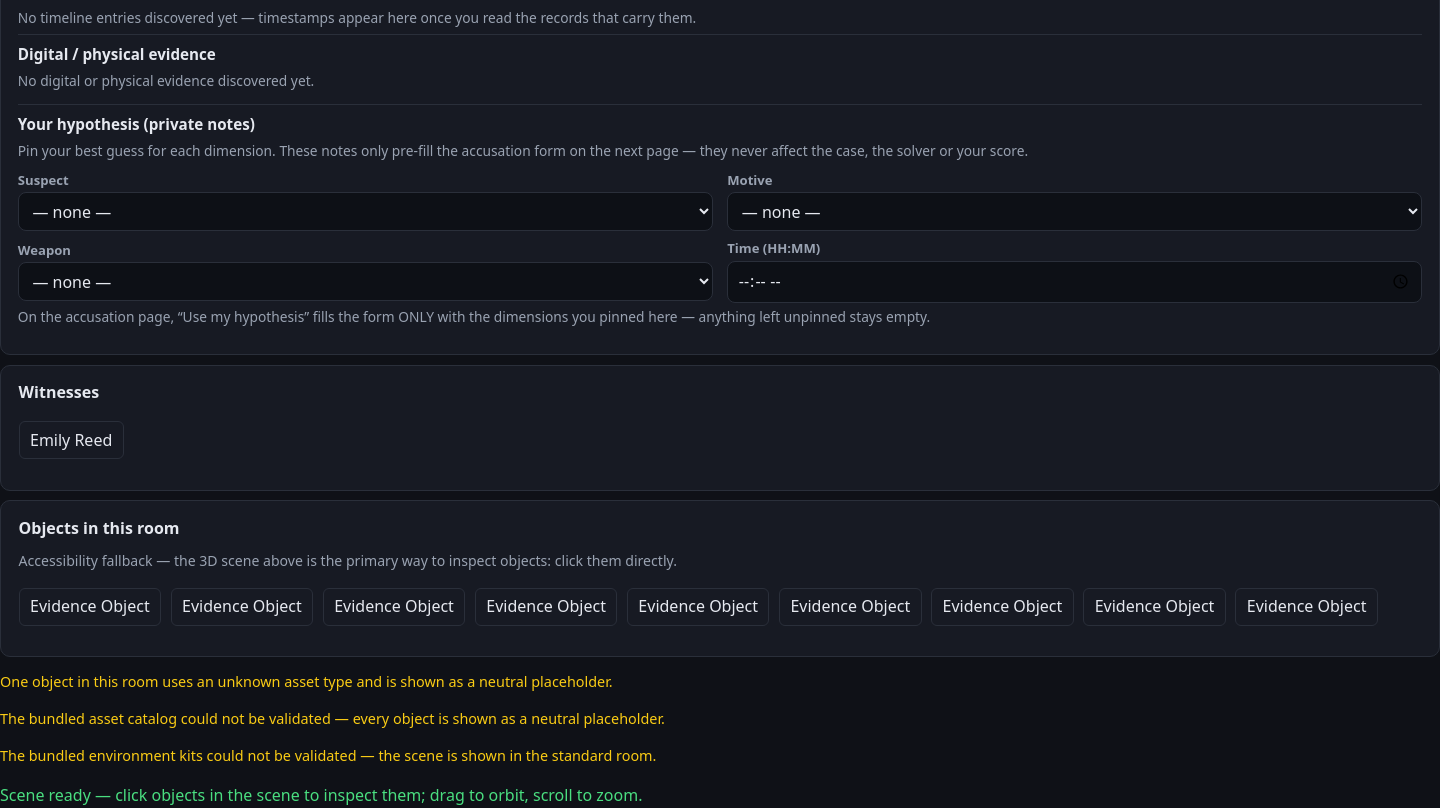
Phase 39 — fresh saved replay starts with ZERO answered witness questions › fresh Demo replay parity: Demo save -> Load -> empty asked markers
(page scrolled)
Click the button with test id "witness-emily_reed". click: (71, 440)
box: [19, 421, 124, 459]
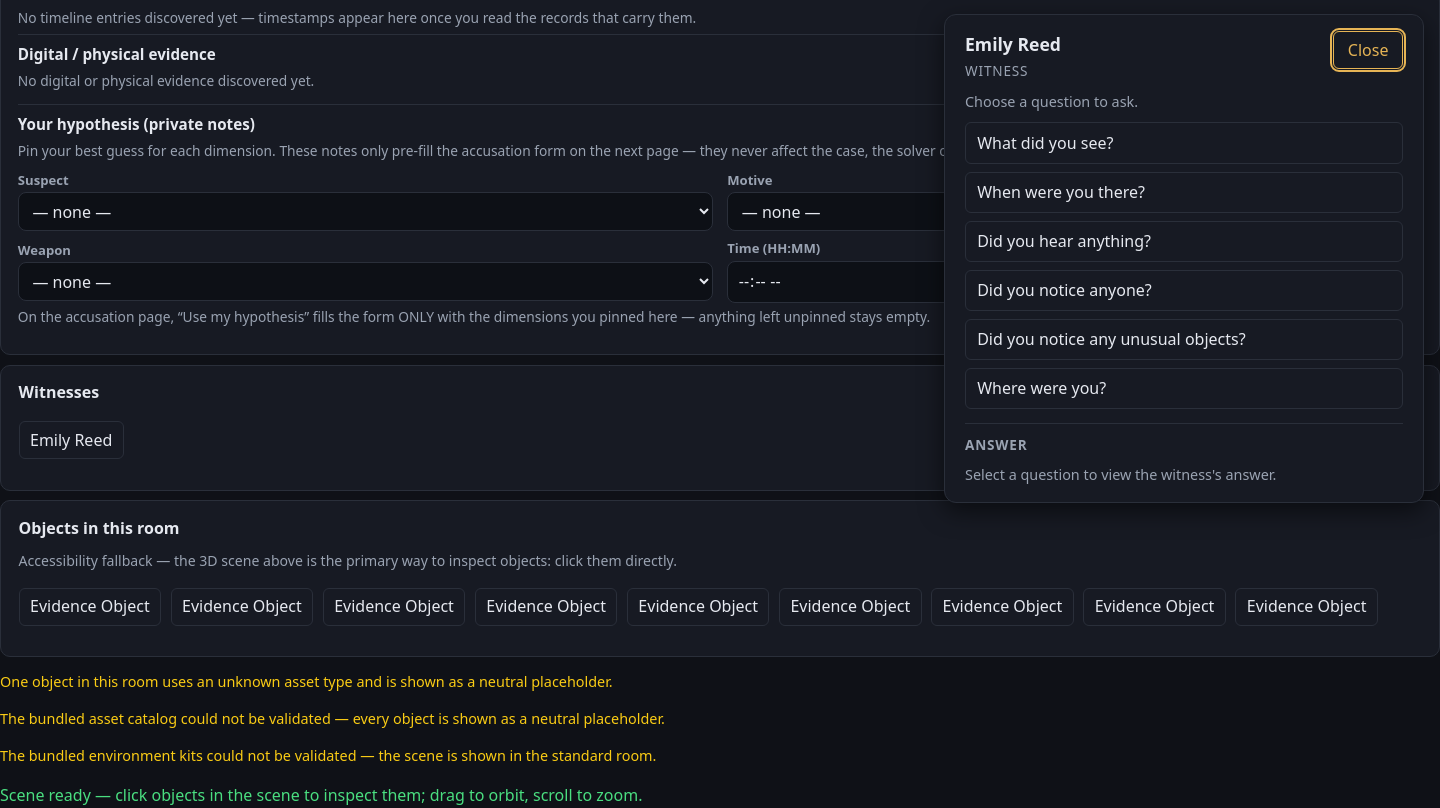
Result: the text "Select a question to view the witness's answer." is shown at [965, 464, 1276, 484]
